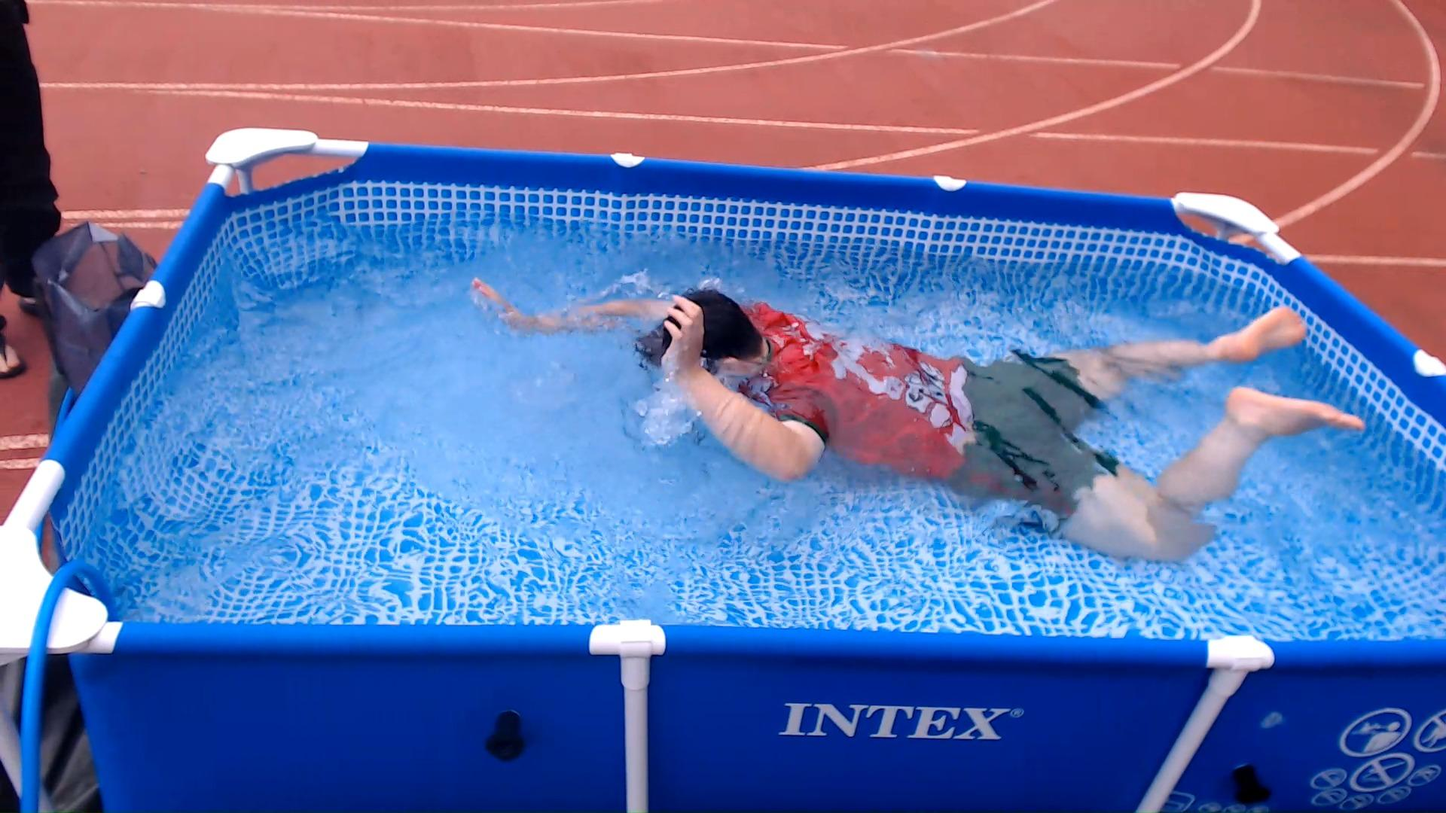Drowning: (437, 202, 1368, 587)
